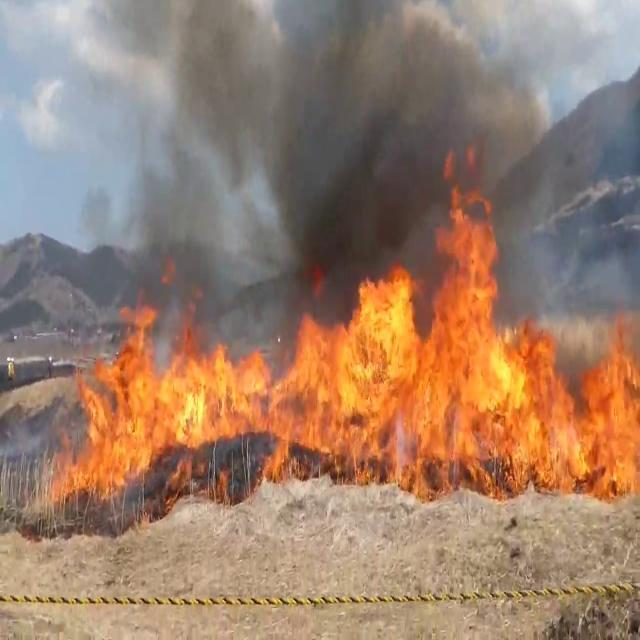Fire: (65, 9, 640, 510), (49, 155, 640, 504), (503, 304, 640, 498)
Smoke: (81, 0, 593, 329)
